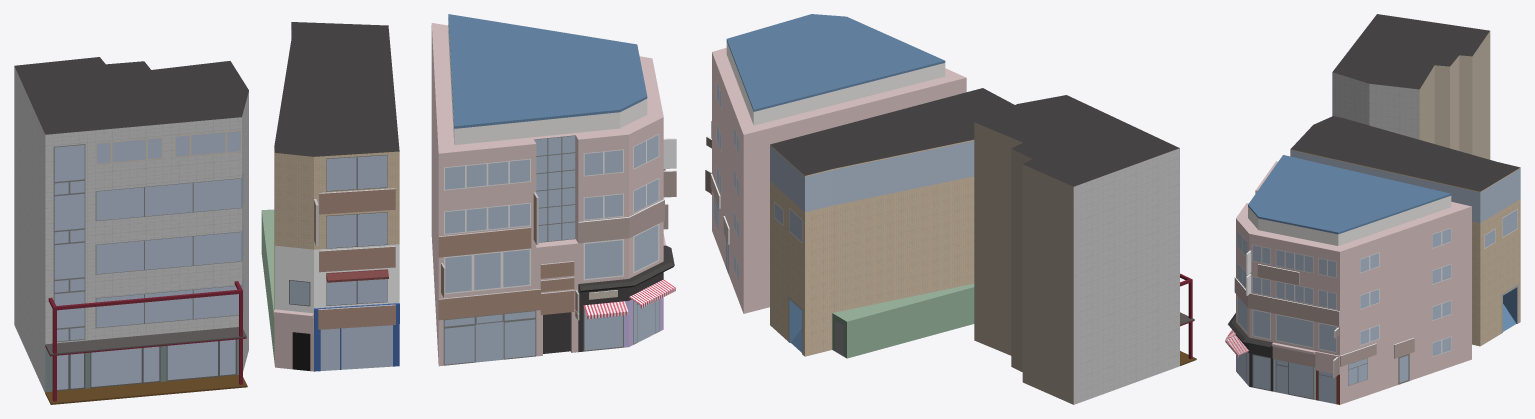
The model's file is cheonan_230612.fbx.
3 views of the same model, side by side, from view 1: azimuth 30°, elevation 25°; view 2: azimuth 150°, elevation 25°; view 3: azimuth 270°, elevation 25° (orthographic). The views are drawn at different scales.
Parts seen in each view (by area): view 1: B_004_10043, B_004_10830, B_004_10208, Group33, Group21, Group12, Group19, Group4, Group5, Group6, Group17, Group16 (+3 smaller); view 2: B_004_10043, B_004_10208, B_004_10830, Group33; view 3: B_004_10830, B_004_10043, B_004_10208, Group19, Group18, Group20, Group15, Group13, Group17, Group9, Group14.
Part boxes in pixels (x1,y1,x2,y2): B_004_10043: [14, 57, 248, 404]; B_004_10830: [431, 14, 663, 366]; B_004_10208: [261, 22, 399, 371]; Group33: [45, 281, 246, 401]; Group21: [438, 289, 540, 320]; Group12: [438, 227, 531, 257]; Group19: [578, 197, 664, 243]; Group4: [319, 188, 395, 214]; Group5: [319, 246, 395, 272]; Group6: [318, 304, 395, 329]; Group17: [578, 245, 674, 292]; Group16: [540, 290, 574, 315]; B_004_10043: [974, 95, 1196, 404]; B_004_10208: [770, 88, 1014, 358]; B_004_10830: [712, 14, 966, 313]; Group33: [1180, 273, 1194, 359]; B_004_10830: [1236, 155, 1471, 404]; B_004_10043: [1332, 14, 1490, 159]; B_004_10208: [1290, 116, 1520, 346]; Group19: [1234, 276, 1339, 326]; Group18: [1271, 342, 1315, 367]; Group20: [1257, 264, 1299, 285]; Group15: [1340, 343, 1376, 366]; Group13: [1315, 351, 1339, 374]; Group17: [1228, 313, 1272, 348]; Group9: [1394, 338, 1414, 358]; Group14: [1225, 335, 1248, 357].
Size of the model in its own units: 4094 by 1688 by 2422.
